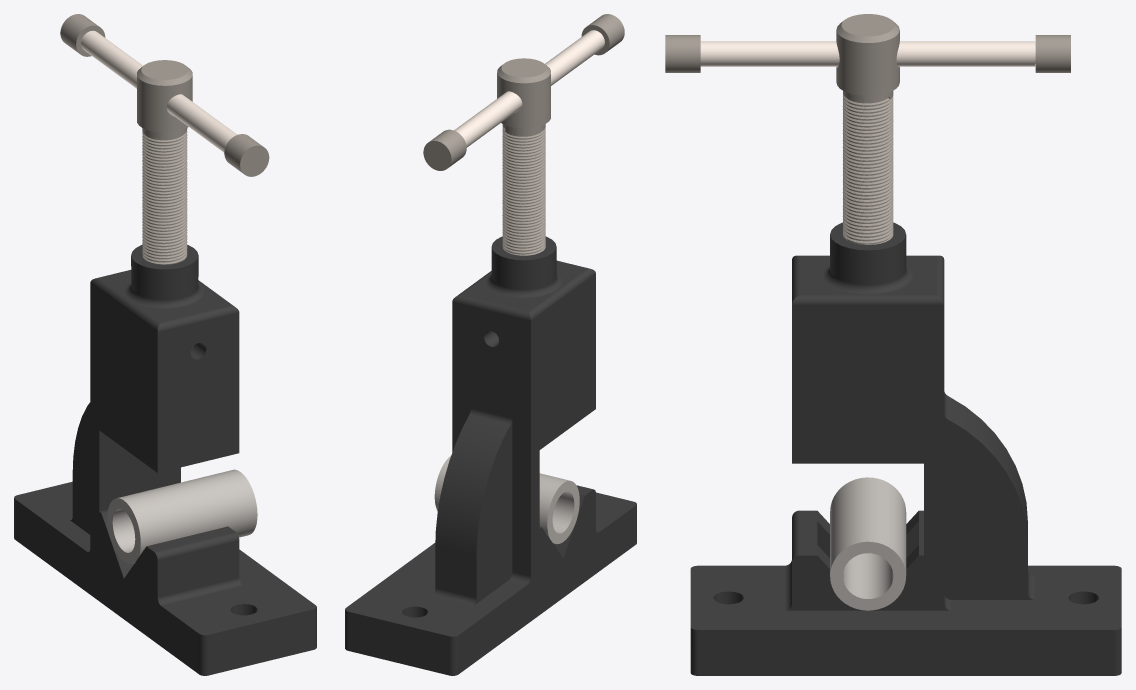
The model's file is Pipe_Vice_Assembly.glb.
3 renders of one model, left to right at view 1: azimuth 30°, elevation 25°; view 2: azimuth 150°, elevation 25°; view 3: azimuth 270°, elevation 25°, orthographic. The views are drawn at different scales.
Visible parts, largest first — view 1: FRAME threaded-1, SCREW threaded-1, GALVANIZED STEEL PIPE-1, HANDLE-1, HANDLE END-1, HANDLE END-2; view 2: FRAME threaded-1, SCREW threaded-1, HANDLE-1, GALVANIZED STEEL PIPE-1, HANDLE END-2, HANDLE END-1; view 3: FRAME threaded-1, SCREW threaded-1, GALVANIZED STEEL PIPE-1, HANDLE-1, HANDLE END-2, HANDLE END-1.
Boxes of the visible parts, <box> form: FRAME threaded-1: <box>14,244,316,675</box>; SCREW threaded-1: <box>137,60,192,264</box>; GALVANIZED STEEL PIPE-1: <box>107,469,257,563</box>; HANDLE-1: <box>81,30,237,152</box>; HANDLE END-1: <box>224,134,269,176</box>; HANDLE END-2: <box>60,14,105,56</box>; FRAME threaded-1: <box>345,236,636,675</box>; SCREW threaded-1: <box>497,58,550,255</box>; HANDLE-1: <box>454,30,604,147</box>; GALVANIZED STEEL PIPE-1: <box>434,456,579,544</box>; HANDLE END-2: <box>423,129,466,170</box>; HANDLE END-1: <box>581,14,624,55</box>; FRAME threaded-1: <box>690,222,1121,675</box>; SCREW threaded-1: <box>836,14,899,244</box>; GALVANIZED STEEL PIPE-1: <box>830,477,906,610</box>; HANDLE-1: <box>700,41,1035,66</box>; HANDLE END-2: <box>1035,35,1070,72</box>; HANDLE END-1: <box>665,35,700,72</box>.
Size of the model in its own units: 0.06 by 0.265 by 0.18.
